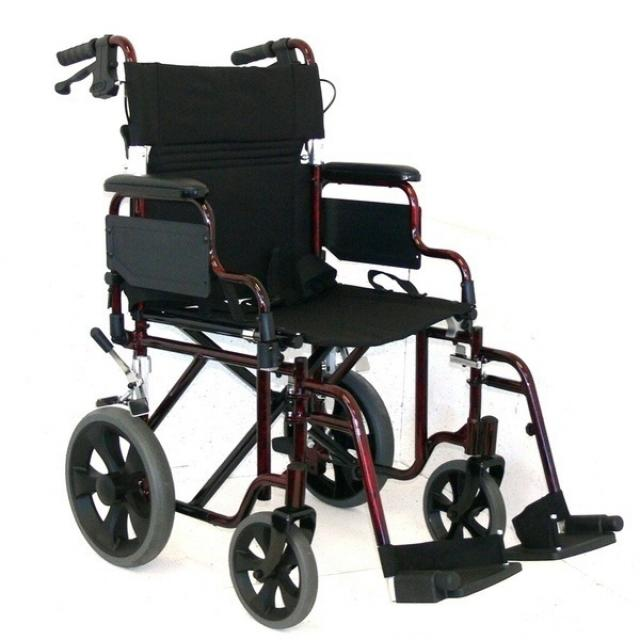wheelchair: (45, 28, 631, 640)
